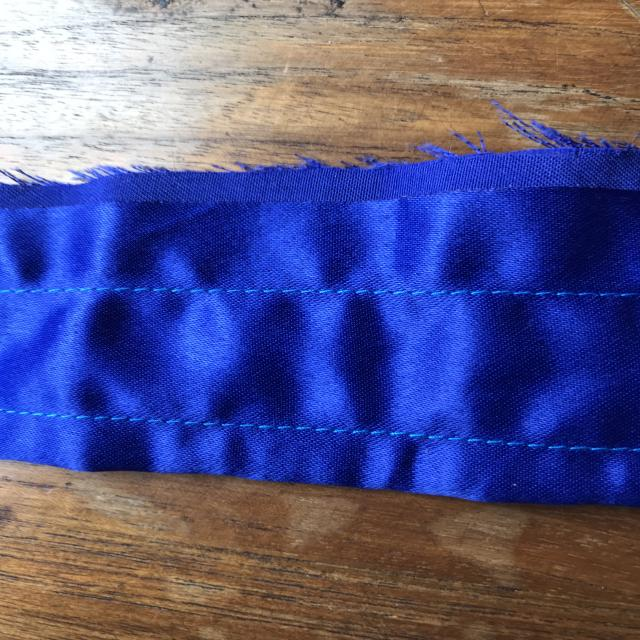good: (222, 414, 510, 454), (226, 280, 561, 308)
